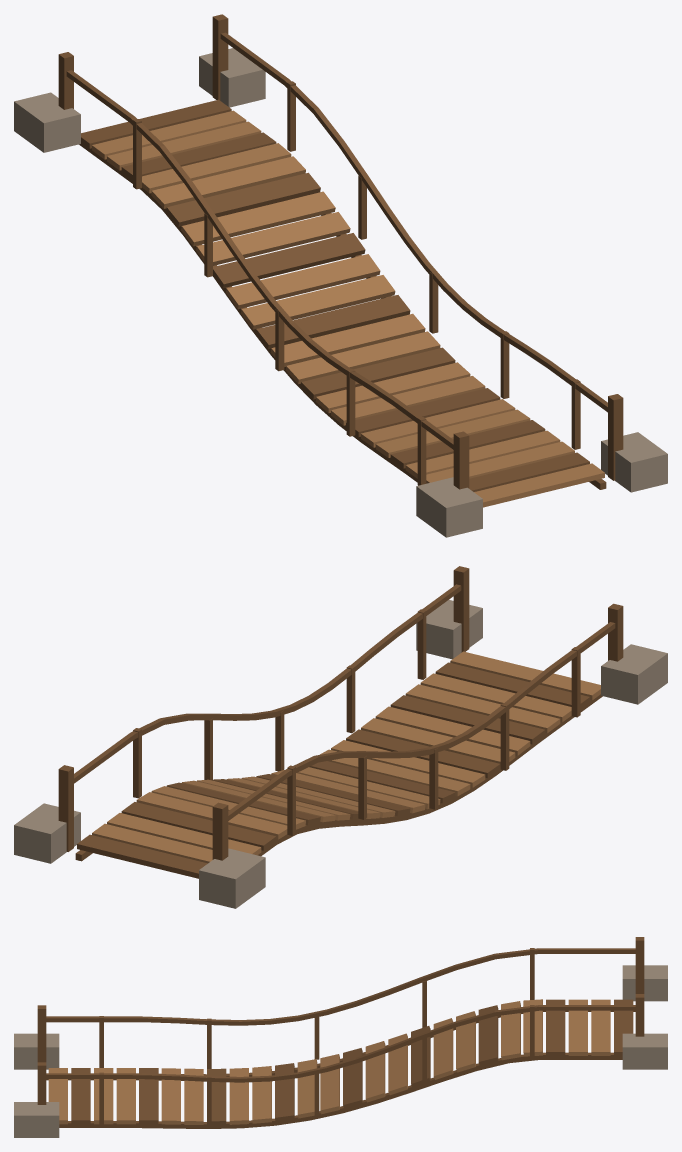
Rendered from cau-1.glb.
3 renders of one model, top to bottom at view 1: azimuth 30°, elevation 25°; view 2: azimuth 150°, elevation 25°; view 3: azimuth 270°, elevation 25°, orthographic. The views are drawn at different scales.
Parts seen in each view (by area): view 1: cau-1; view 2: cau-1; view 3: cau-1.
Part boxes in pixels (x1,y1,x2,y2): cau-1: (14,14,667,537); cau-1: (14,566,667,908); cau-1: (14,937,667,1137).
Size of the model in its own units: 3.6 by 2.8 by 12.15.
1 material, 1 textured.
